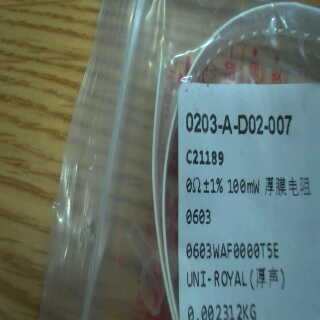0R: (185, 171, 263, 233)
